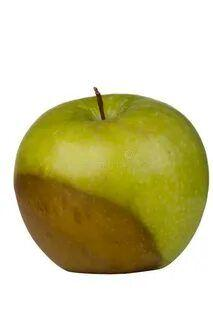Apple: (14, 94, 208, 274)
